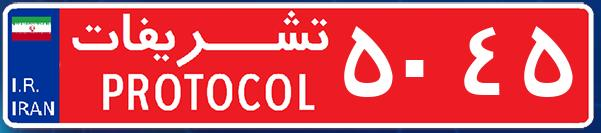0: (400, 20, 460, 115)
4: (460, 20, 520, 115)
5: (340, 20, 400, 115), (520, 20, 580, 115)
تشریفات: (60, 8, 340, 125)
